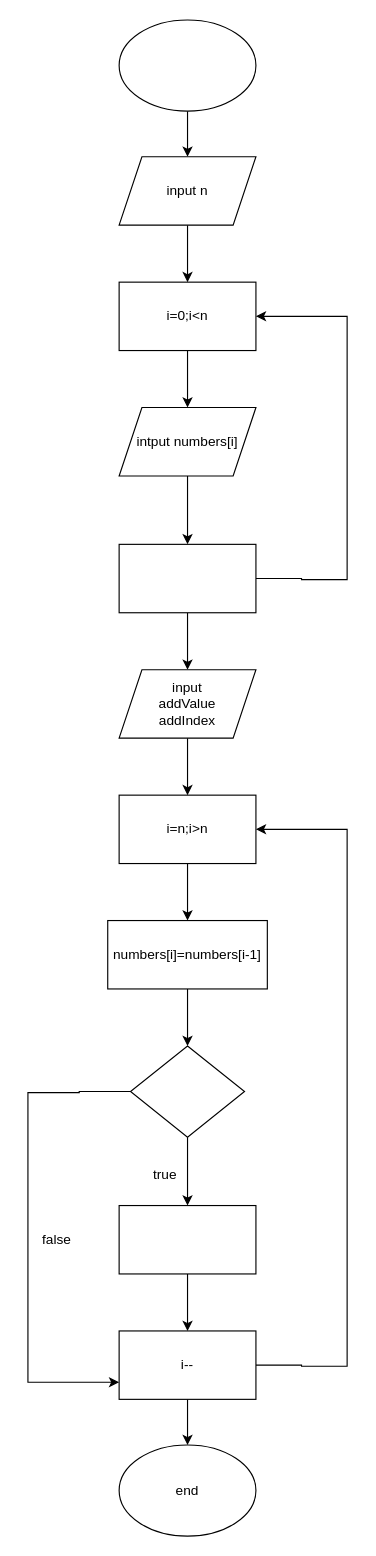
This 376x1556 diagram has some shape labels left out. The box of each missing label's shape, as (x1, y1, x2, y2) in pixels:
i++: (118, 543, 256, 613)
if addIndex==i: (129, 1045, 245, 1137)
numbers[i]=addValue break: (118, 1204, 256, 1274)
start: (118, 19, 256, 111)
